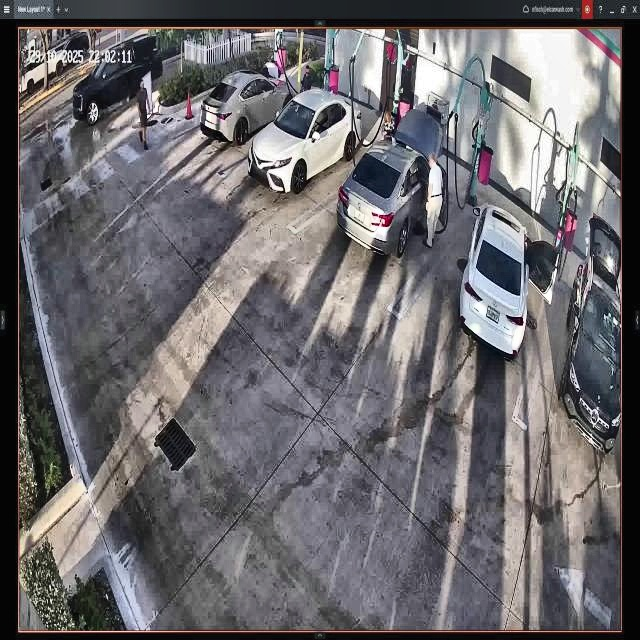Car: (338, 109, 447, 255), (458, 204, 558, 360), (251, 90, 363, 197), (201, 74, 294, 144)
